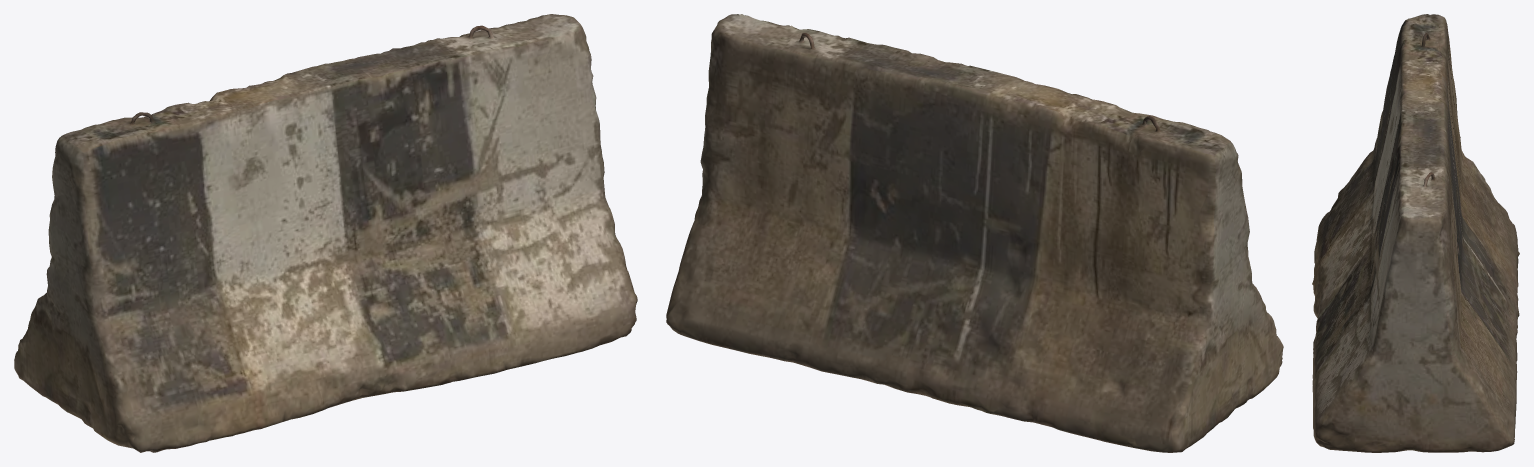
Rendered from concrete_road_barrier.glb.
3 views of the same model, side by side, from view 1: azimuth 30°, elevation 25°; view 2: azimuth 150°, elevation 25°; view 3: azimuth 270°, elevation 25° (orthographic). The views are drawn at different scales.
Parts seen in each view (by area): view 1: concrete_road_barrier; view 2: concrete_road_barrier; view 3: concrete_road_barrier.
Part boxes in pixels (x1,y1,x2,y2): concrete_road_barrier: (14, 14, 637, 452); concrete_road_barrier: (666, 14, 1283, 452); concrete_road_barrier: (1312, 14, 1519, 452).
Bounding box in the file's own units: 1.54 × 0.8303 × 0.6386.
1 material, 1 textured.
